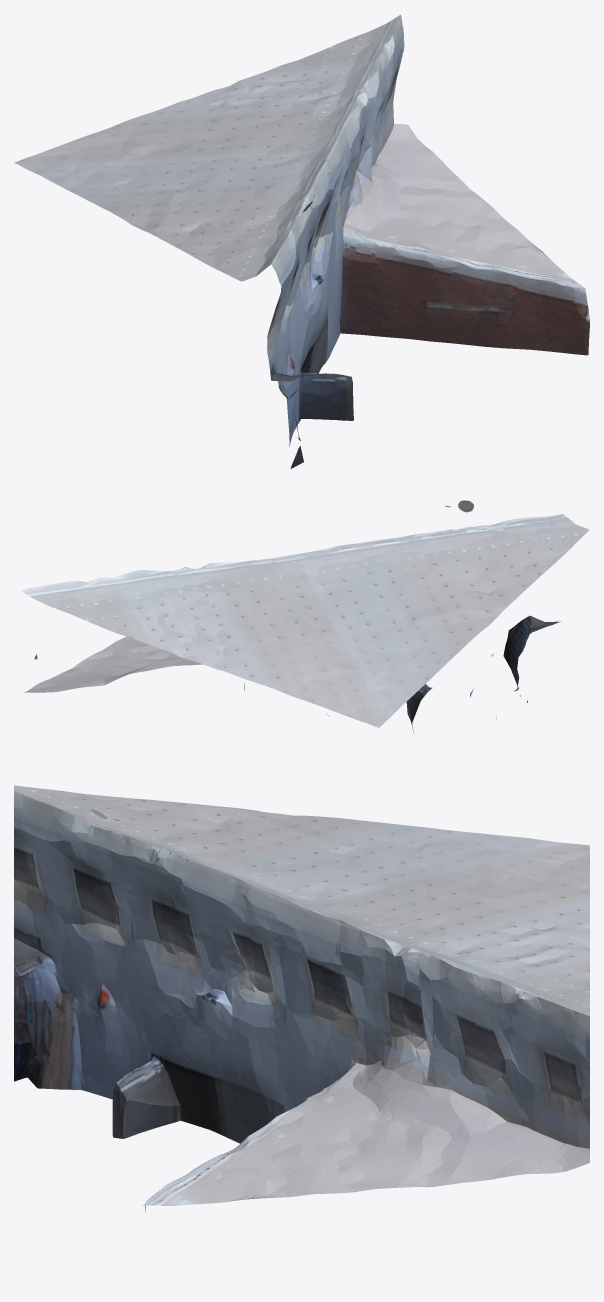
3 renders of one model, top to bottom at view 1: azimuth 30°, elevation 25°; view 2: azimuth 150°, elevation 25°; view 3: azimuth 270°, elevation 25°, orthographic. The views are drawn at different scales.
Size of the model in its own units: 8.36 by 4.76 by 8.36.
4 materials, 4 textured.
